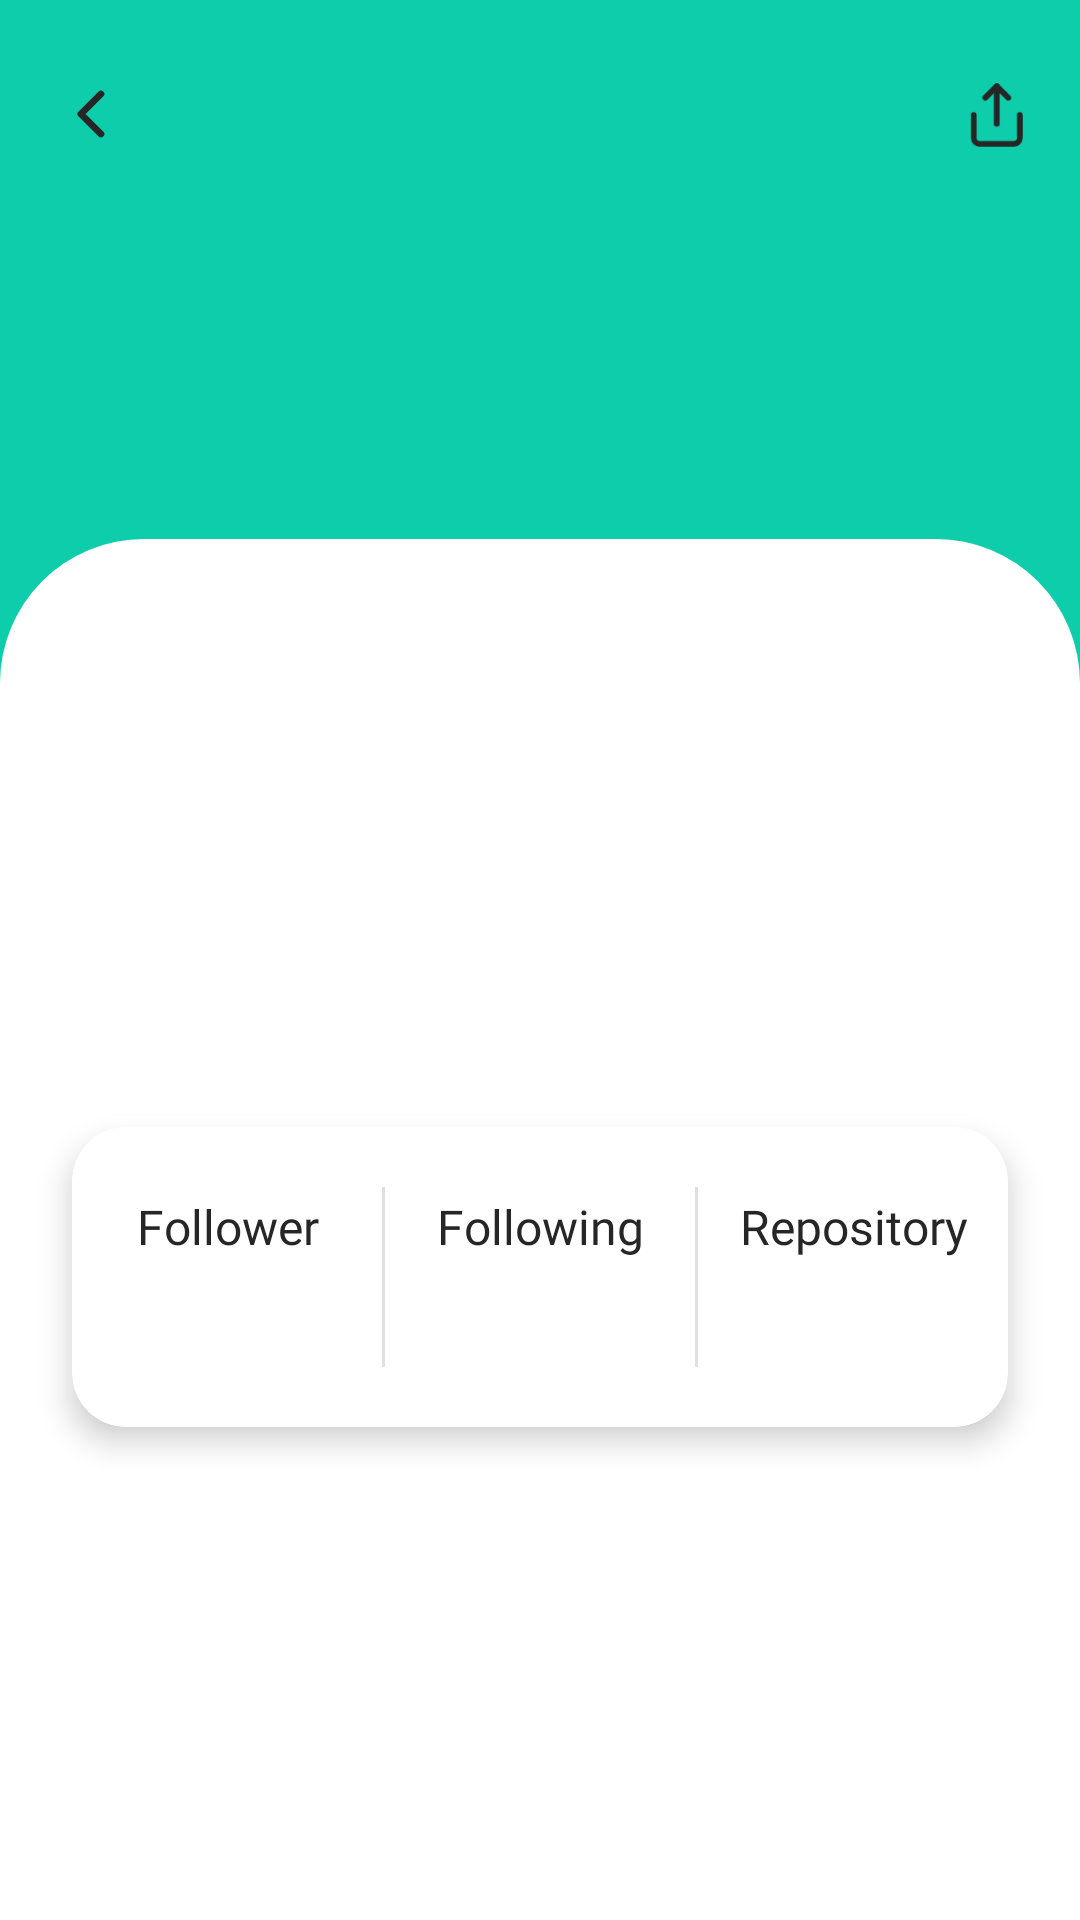

Screen size 1080 x 1920. Icon name, then its box in pixels as (x1, y1, x2, y2):
Image View Icon Back: (77, 90, 105, 138)
Image View Share: (971, 83, 1023, 147)
